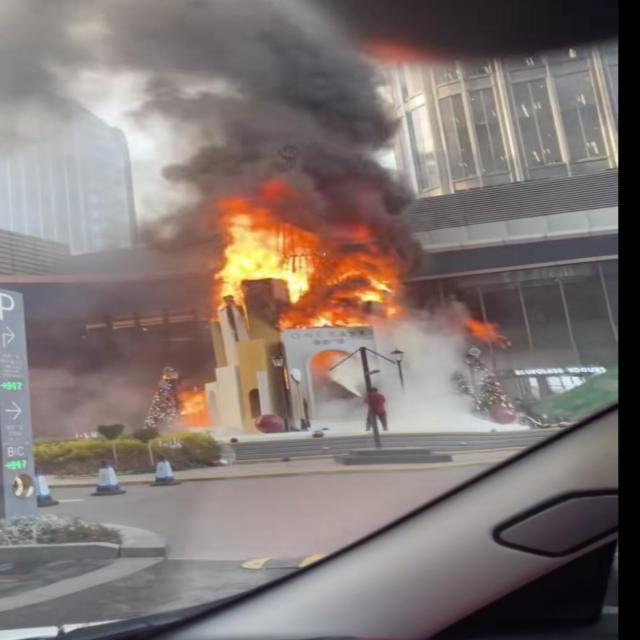Fire: (214, 198, 310, 278)
Smoke: (102, 2, 384, 94), (204, 94, 410, 200)
